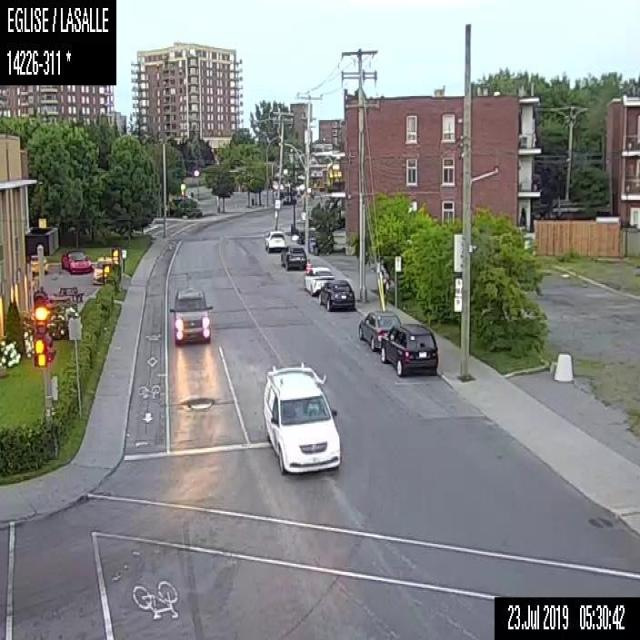construction: (304, 259, 311, 273)
vehicle: (260, 360, 341, 475), (380, 320, 437, 376), (169, 284, 213, 345), (355, 306, 399, 352), (319, 280, 356, 309), (60, 248, 95, 274), (304, 266, 330, 294), (280, 243, 306, 270), (263, 228, 285, 252), (92, 253, 110, 281), (29, 256, 46, 276)
